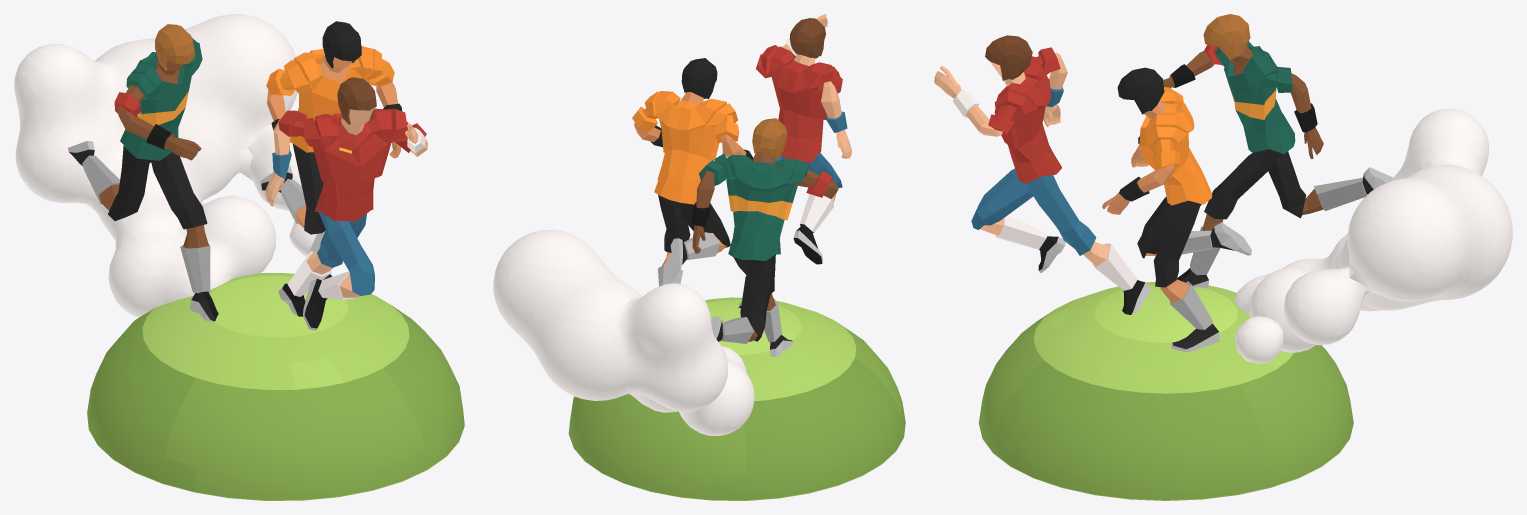
The model's file is Runners.glb.
3 renders of one model, left to right at view 1: azimuth 30°, elevation 25°; view 2: azimuth 150°, elevation 25°; view 3: azimuth 270°, elevation 25°, orthographic. The views are drawn at different scales.
Visible parts, largest first — view 1: Ground, Dust, H1, h2, h3; view 2: Ground, Dust, h2, h3, H1; view 3: Ground, Dust, H1, h2, h3.
Boxes of the visible parts, x1,y1,x2,y2 form: Ground: [87, 273, 464, 500]; Dust: [14, 14, 316, 317]; H1: [265, 77, 427, 330]; h2: [68, 24, 218, 321]; h3: [260, 21, 402, 279]; Ground: [568, 297, 905, 500]; Dust: [493, 229, 754, 435]; h2: [692, 118, 838, 356]; h3: [632, 58, 753, 286]; H1: [738, 14, 851, 308]; Ground: [978, 282, 1353, 500]; Dust: [1234, 108, 1512, 363]; H1: [934, 35, 1151, 314]; h2: [1163, 14, 1392, 287]; h3: [1102, 67, 1251, 351].
Size of the model in its own units: 6.45 by 7.57 by 10.23.
Materials: 1 (1 with a texture image).
